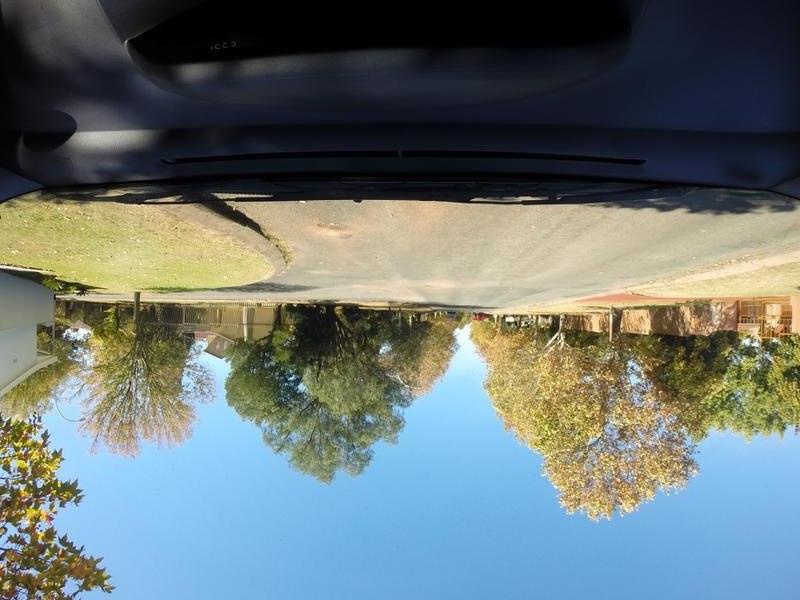pothole: (311, 213, 350, 242)
